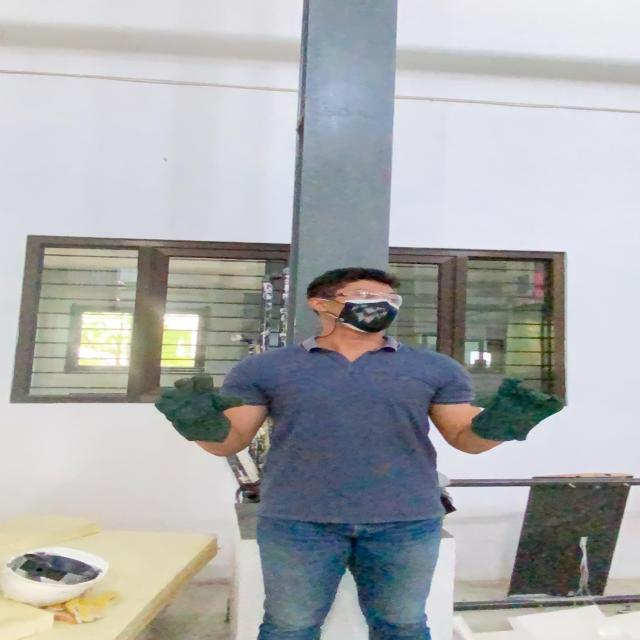face_mask: (331, 288, 406, 330)
glasses: (318, 288, 406, 308)
hand_glove: (142, 369, 249, 434), (464, 373, 566, 432)
head_nohelmet: (315, 263, 407, 295)
person: (215, 269, 517, 640)
